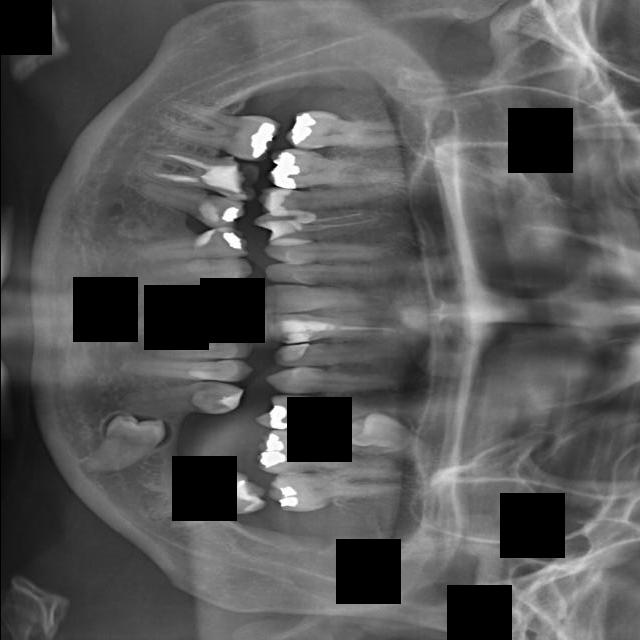AGS Medikal Implant: (271, 344, 416, 367)
AMerOss Implant: (262, 368, 433, 394)
Amalgam filling: (251, 394, 375, 433)
Anthogyr Implant: (336, 400, 445, 473)
Bicon Implant: (252, 429, 406, 480)
BioHorizons Implant: (266, 476, 408, 518)
Blue Sky Bio Implant: (139, 462, 269, 541)
Caries: (282, 109, 415, 149)
Composite filling: (73, 395, 174, 502)
Cowellmedi Implant: (116, 379, 245, 417)
Crown: (118, 359, 256, 383)
DENTSPLY Implant: (154, 337, 255, 362)
Dentatus Implant: (168, 320, 257, 345)
Dentis Implant: (156, 302, 254, 329)
Dentium Implant: (147, 279, 252, 313)
Euroteknika Implant: (183, 259, 250, 281)
Filling: (137, 227, 249, 261)
Frontier Implant: (127, 178, 246, 234)
Hiossen Implant: (261, 145, 413, 201)
Implant: (146, 87, 281, 166)
Implant Direct: (132, 137, 259, 202)
MIS Implant: (256, 181, 403, 210)
Mandible: (249, 208, 390, 240)
Maxilla: (258, 235, 408, 264)
Megagen Implant: (257, 258, 405, 291)
Neodent Implant: (259, 274, 395, 315)
Neoss Implant: (267, 306, 408, 345)
